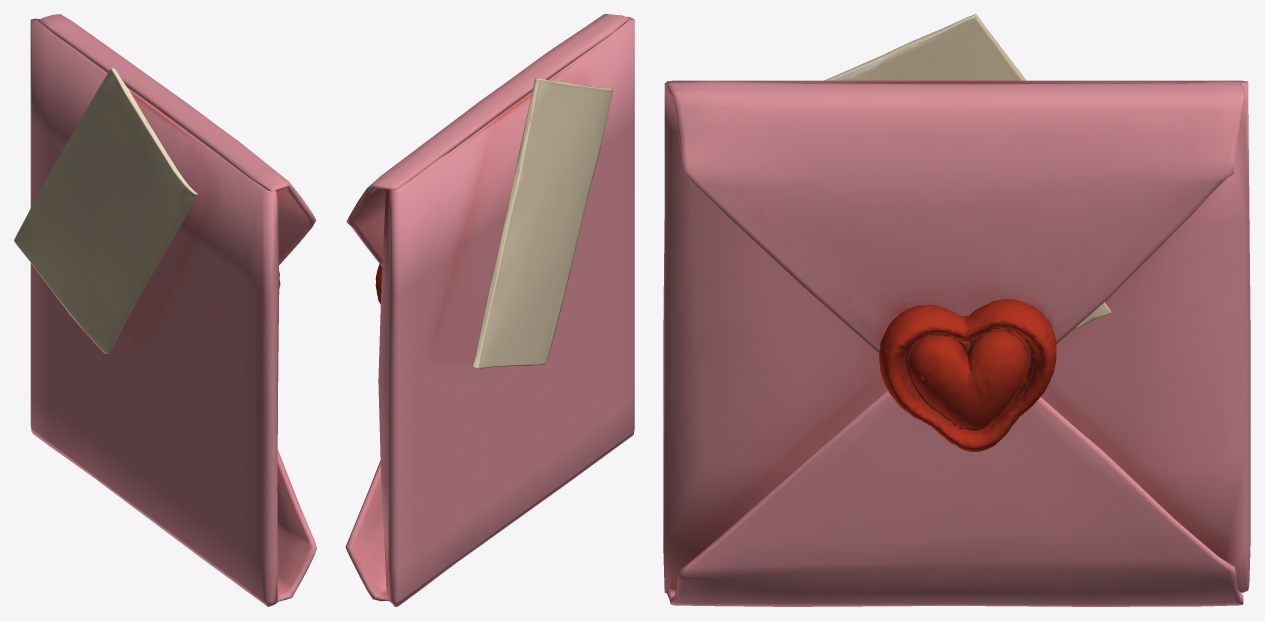
Rendered from r33-loveletter.glb.
3 renders of one model, left to right at view 1: azimuth 30°, elevation 25°; view 2: azimuth 150°, elevation 25°; view 3: azimuth 270°, elevation 25°, orthographic. The views are drawn at different scales.
Visible parts, largest first — view 1: tripo_node_cd171918-8417-4d23-8884-e6a18f62ec66; view 2: tripo_node_cd171918-8417-4d23-8884-e6a18f62ec66; view 3: tripo_node_cd171918-8417-4d23-8884-e6a18f62ec66.
Part boxes in pixels (x1,y1,x2,y2): tripo_node_cd171918-8417-4d23-8884-e6a18f62ec66: [14, 14, 316, 606]; tripo_node_cd171918-8417-4d23-8884-e6a18f62ec66: [345, 14, 634, 606]; tripo_node_cd171918-8417-4d23-8884-e6a18f62ec66: [663, 14, 1250, 606].
Bounding box in the file's own units: 0.3535 × 0.998 × 0.9512.
1 material, 1 textured.
